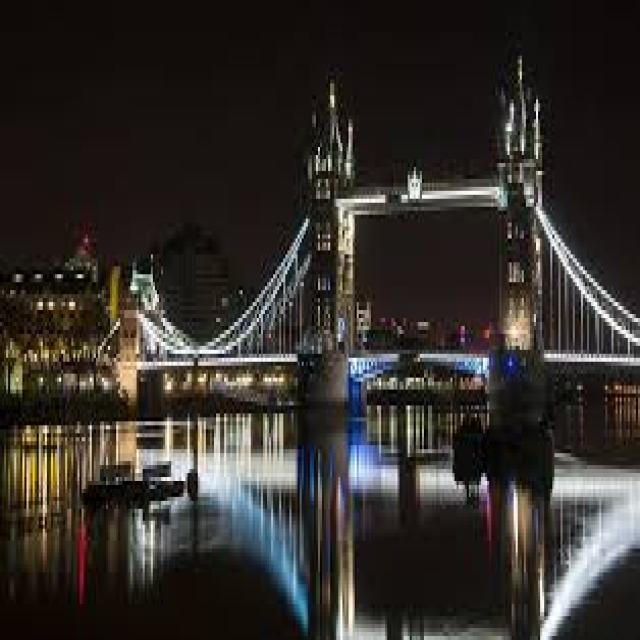Bridges: (103, 86, 640, 503)
